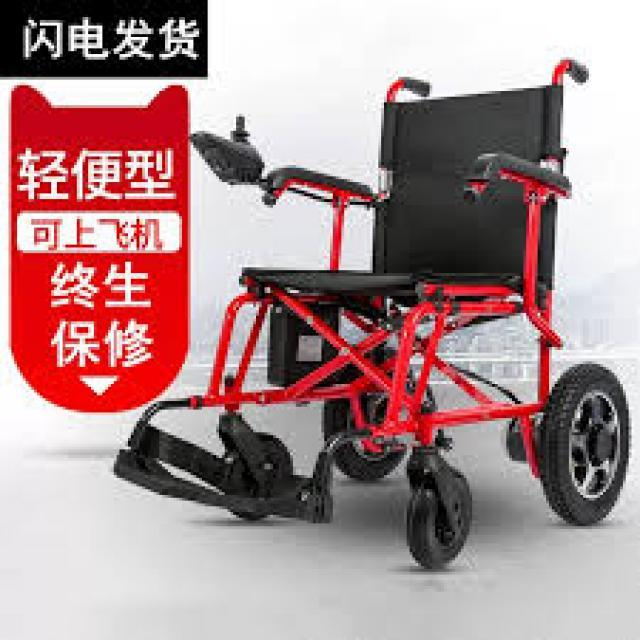wheelchair: (114, 49, 632, 578)
